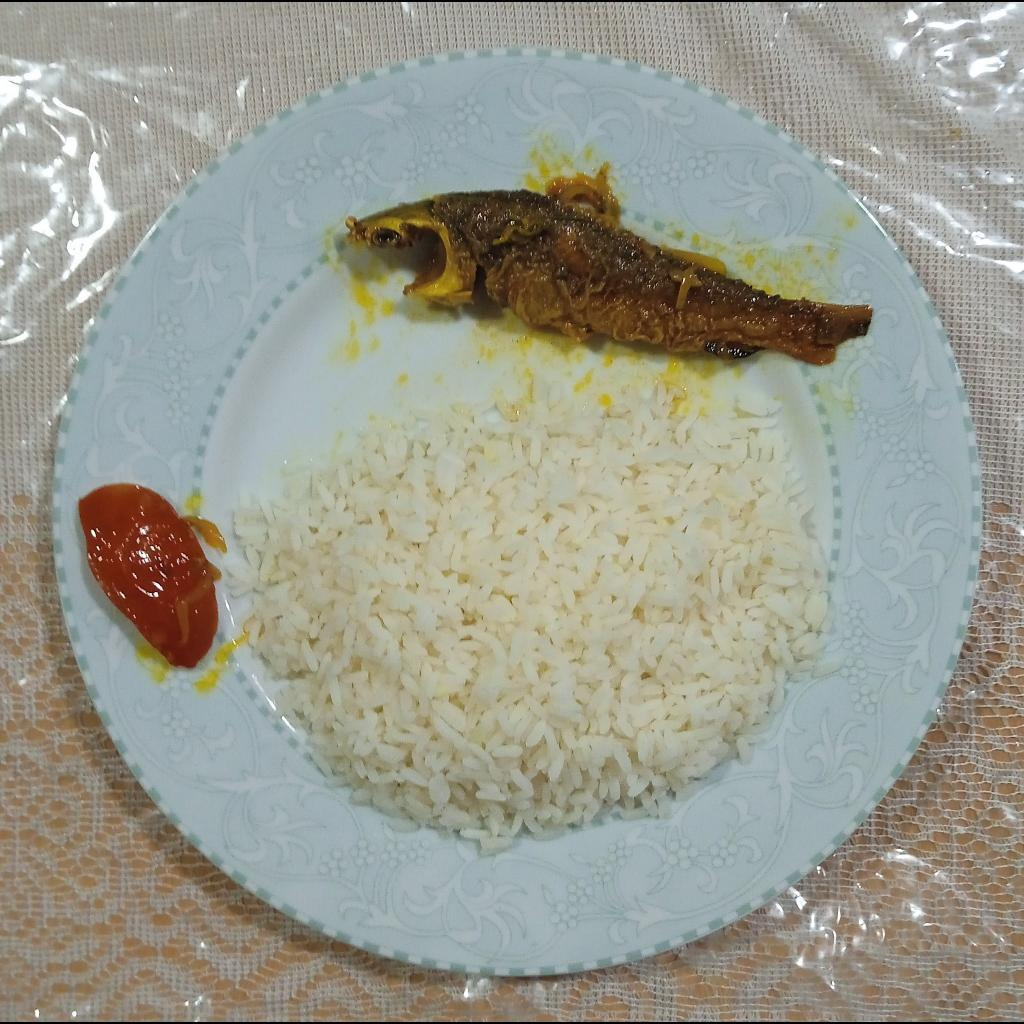fish: (349, 191, 872, 367)
rice: (233, 388, 830, 844)
tomato: (79, 484, 219, 668)
